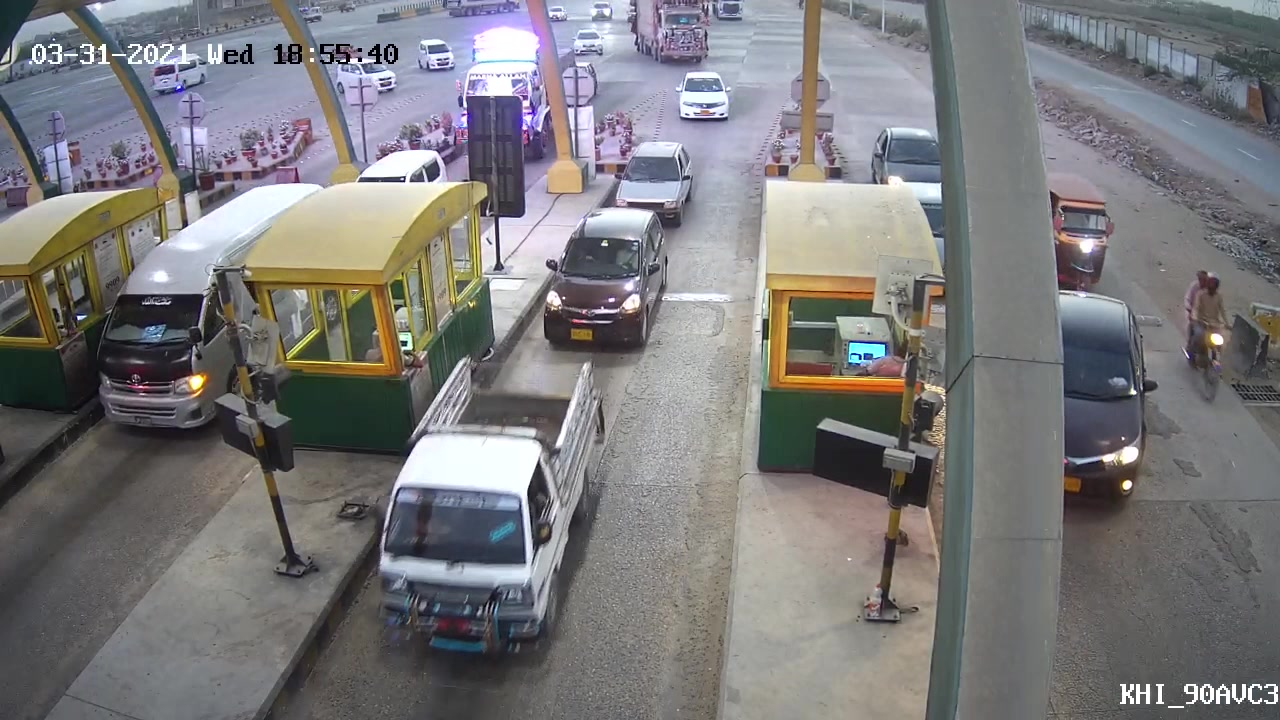F1: (523, 207, 674, 354)
